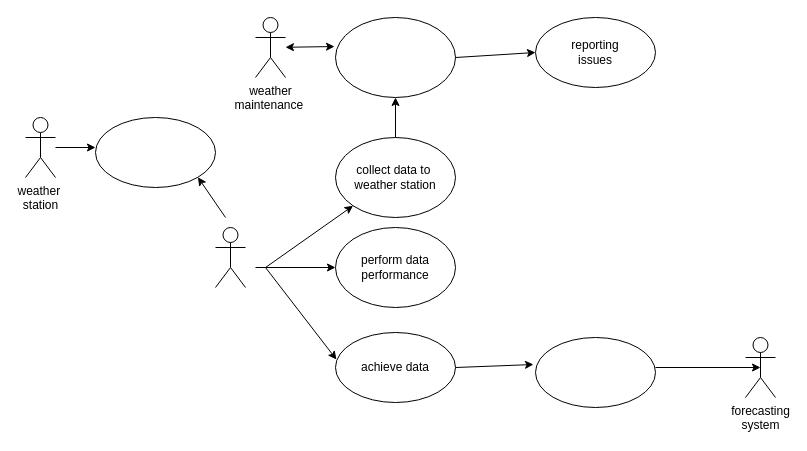
This 807x451 diagram has some shape labels left out. Each missing label, with the centre of its shape:
"collect data" belongs at point (155, 152).
"data base management" belongs at point (230, 257).
"report weather system" belongs at point (595, 372).
"view health weather data in station" belongs at point (395, 57).
